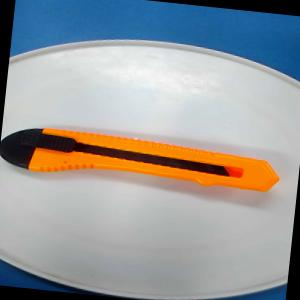estilete: (0, 121, 282, 195)
